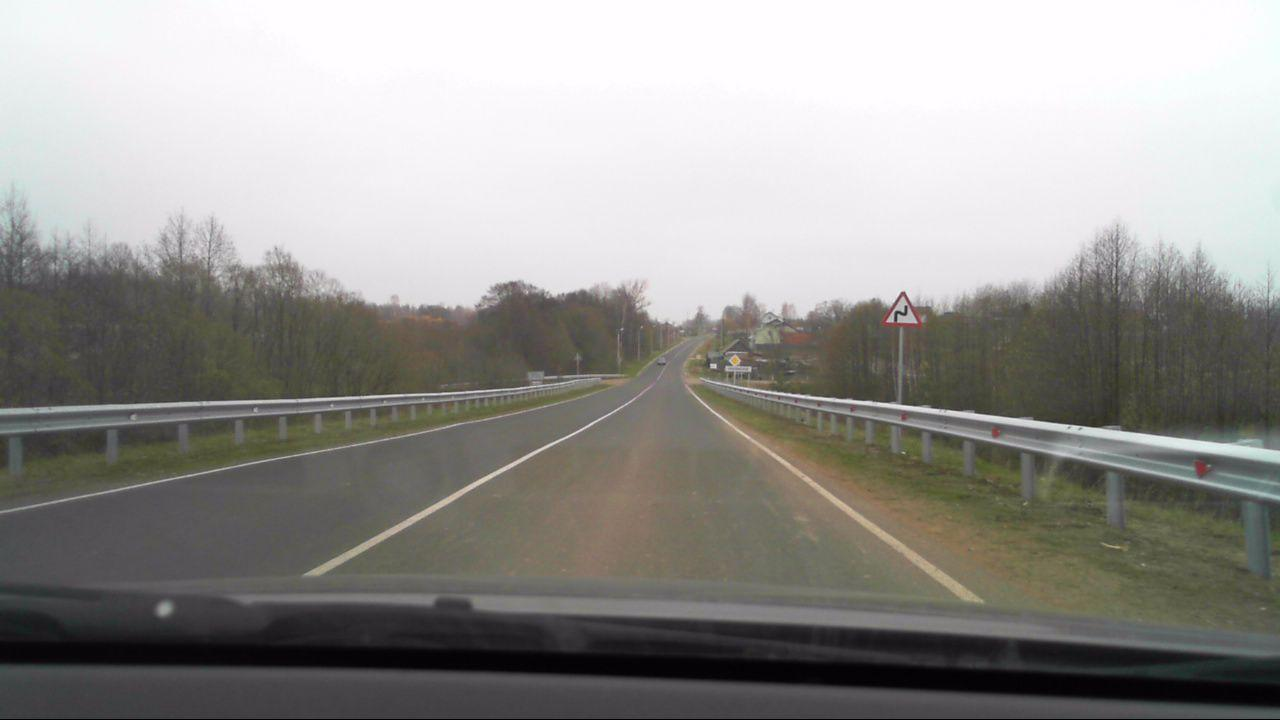1_12_1: (881, 291, 919, 326)
